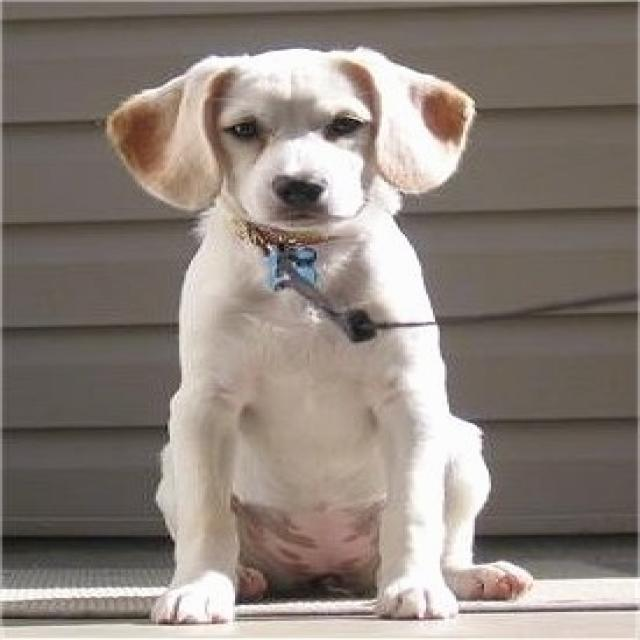dog: (36, 20, 581, 345)
